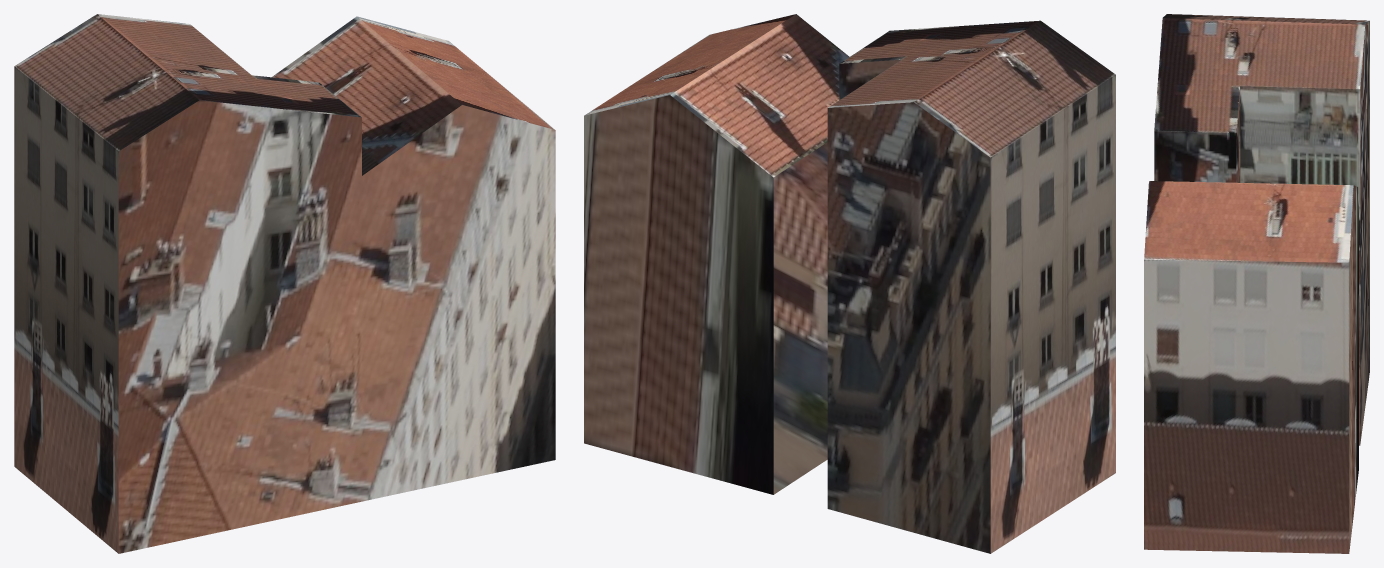
3 renders of one model, left to right at view 1: azimuth 30°, elevation 25°; view 2: azimuth 150°, elevation 25°; view 3: azimuth 270°, elevation 25°, orthographic. The views are drawn at different scales.
Visible parts, largest first — view 1: Z_UP; view 2: Z_UP; view 3: Z_UP.
Part boxes in pixels (left/top/right/bottom): Z_UP: left=14, top=14, right=555, bottom=553; Z_UP: left=584, top=14, right=1115, bottom=553; Z_UP: left=1144, top=14, right=1369, bottom=553.
Bounding box in the file's own units: 22.47 × 21.59 × 11.52.
Materials: 2 (1 with a texture image).
